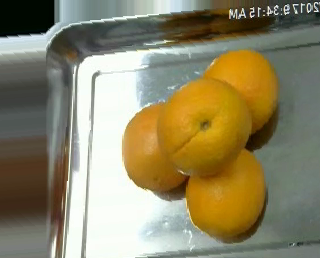Orange: (158, 77, 250, 176), (184, 147, 267, 240), (122, 100, 199, 191), (204, 47, 280, 133)
